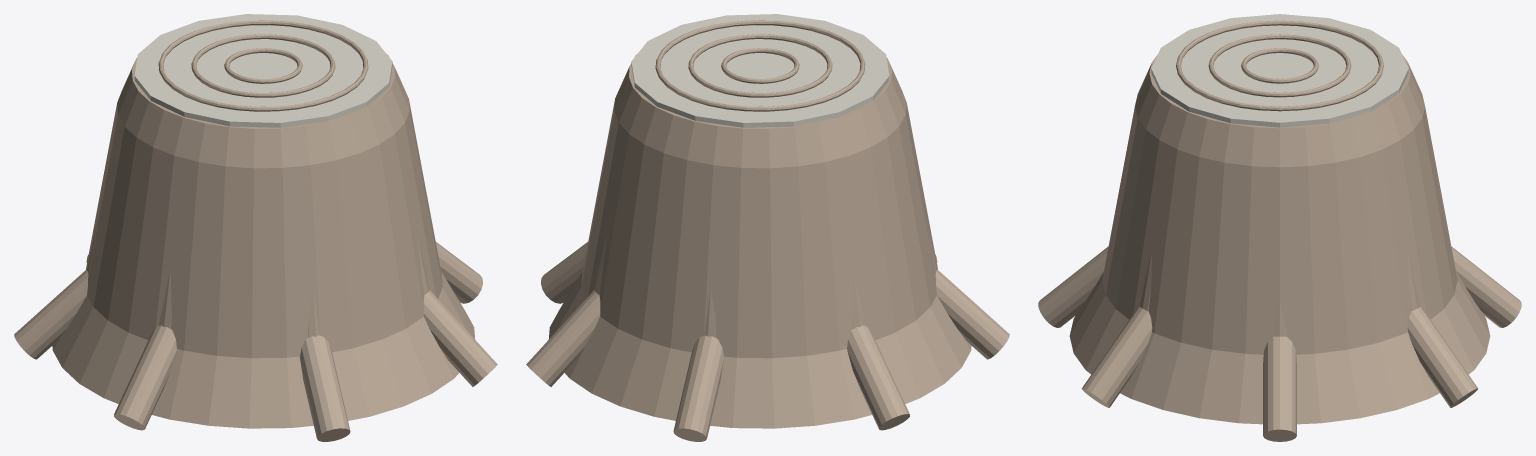
Rendered from library_stump.glb.
3 views of the same model, side by side, from view 1: azimuth 30°, elevation 25°; view 2: azimuth 150°, elevation 25°; view 3: azimuth 270°, elevation 25° (orthographic).
Parts seen in each view (by area): view 1: decor_806751_matte, decor_aaa493_matte; view 2: decor_806751_matte, decor_aaa493_matte; view 3: decor_806751_matte, decor_aaa493_matte.
Boxes of the visible parts, left/top/right/bottom form: decor_806751_matte: left=14, top=20, right=497, bottom=441; decor_aaa493_matte: left=134, top=14, right=392, bottom=127; decor_806751_matte: left=526, top=20, right=1009, bottom=441; decor_aaa493_matte: left=631, top=14, right=889, bottom=127; decor_806751_matte: left=1038, top=20, right=1521, bottom=441; decor_aaa493_matte: left=1151, top=14, right=1408, bottom=127.
Bounding box in the file's own units: 1.3 × 0.863 × 1.33.
